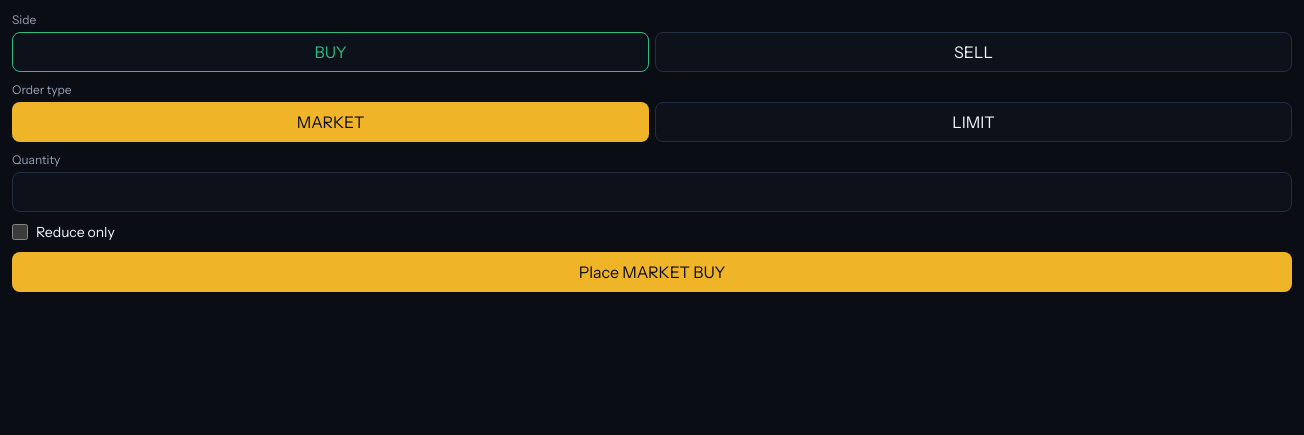
Scenario: OrderForm › keeps fail-closed copy when market data is unavailable
Type "0.001" into the field labelled "Quantity".
click(652, 192); type("0.001")  # box [12,172,1292,212]
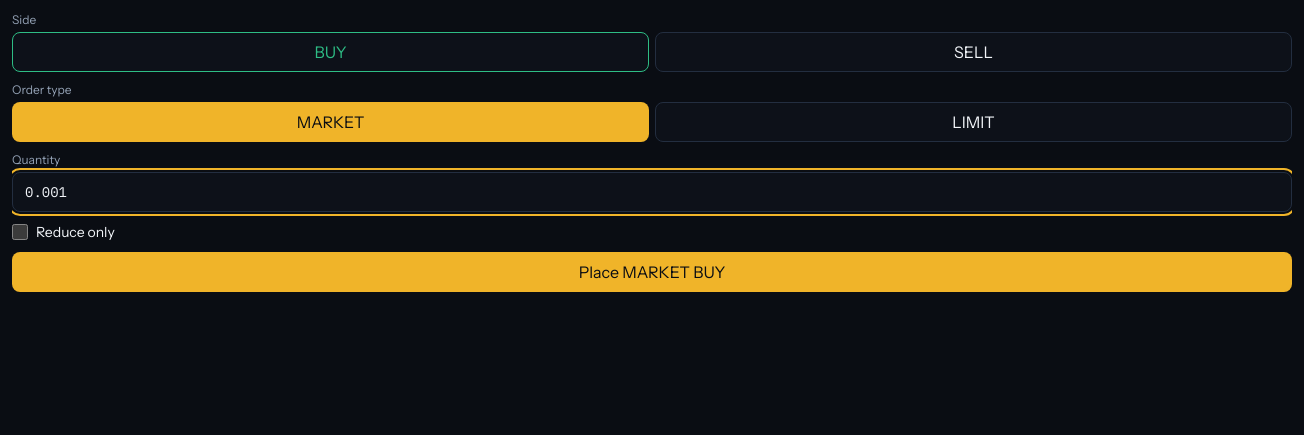
Click the button "Place MARKET BUY".
click(652, 272)  # box [12,252,1292,292]
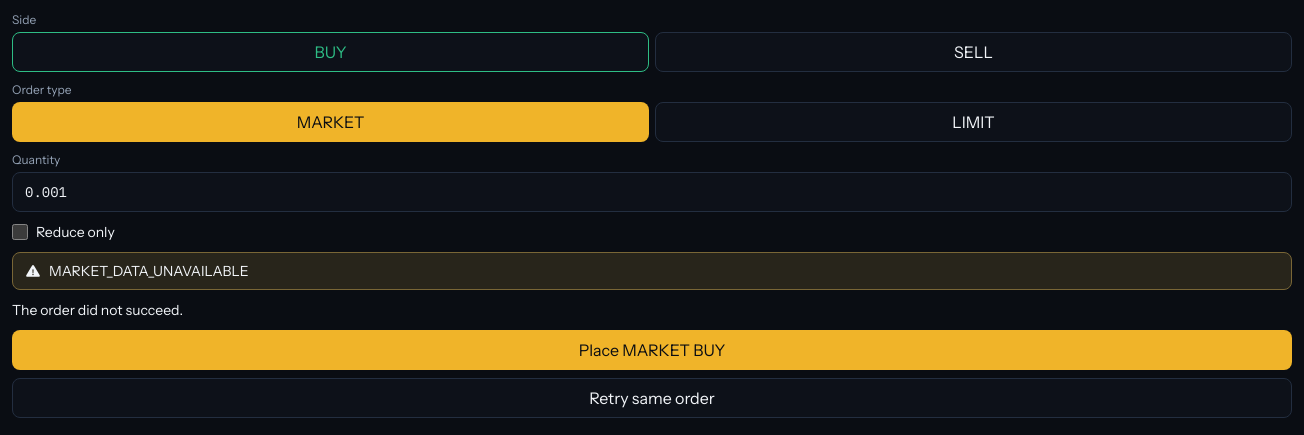
Check: the text "The order did not succeed." is shown, box [12,301,183,319]
Check: the button "Retry same order" is shown, box [12,378,1292,418]
